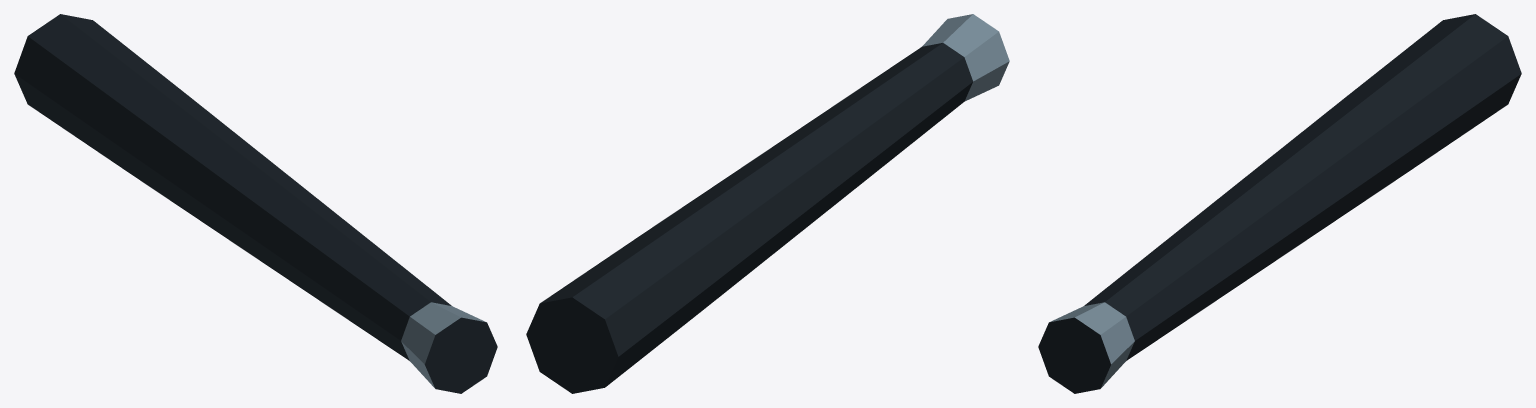
Rendered from FangBarrelRight.obj.
3 renders of one model, left to right at view 1: azimuth 30°, elevation 25°; view 2: azimuth 150°, elevation 25°; view 3: azimuth 330°, elevation 25°, orthographic.
Visible parts, largest first — view 1: FangBarrelRight; view 2: FangBarrelRight; view 3: FangBarrelRight.
Part boxes in pixels (x1,y1,x2,y2): FangBarrelRight: [14, 14, 497, 393]; FangBarrelRight: [526, 14, 1009, 393]; FangBarrelRight: [1038, 14, 1521, 393].
Bounding box in the file's own units: 0.23 × 0.23 × 1.73.
